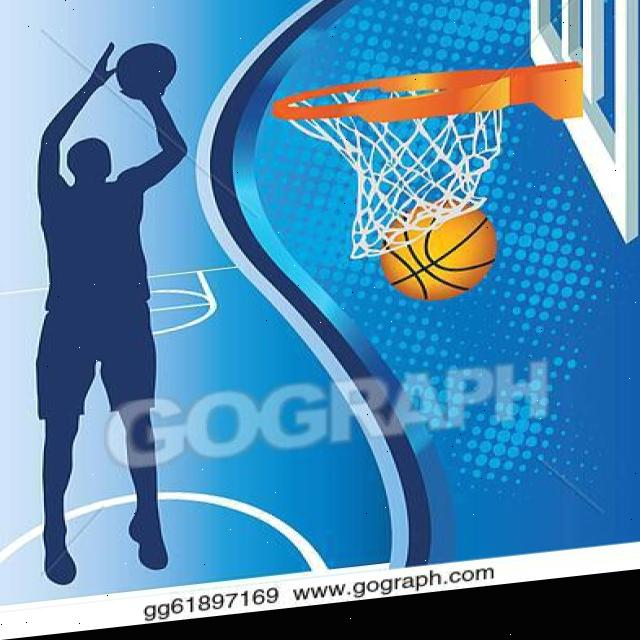basketball: (381, 192, 497, 307)
hoop: (272, 63, 511, 268)
